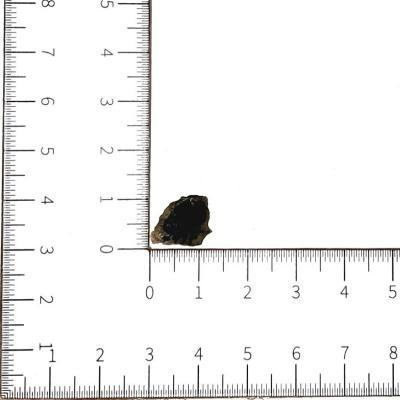archeology: (150, 195, 212, 248)
